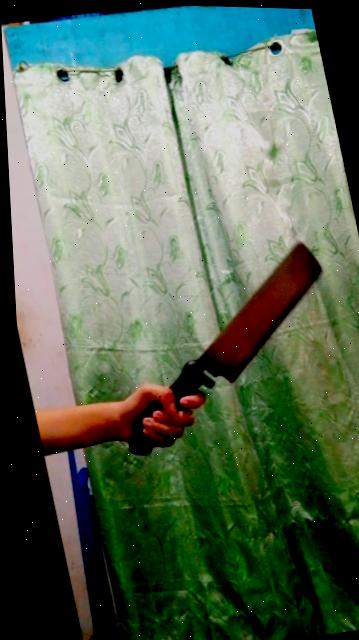long knife: (76, 228, 359, 466)
